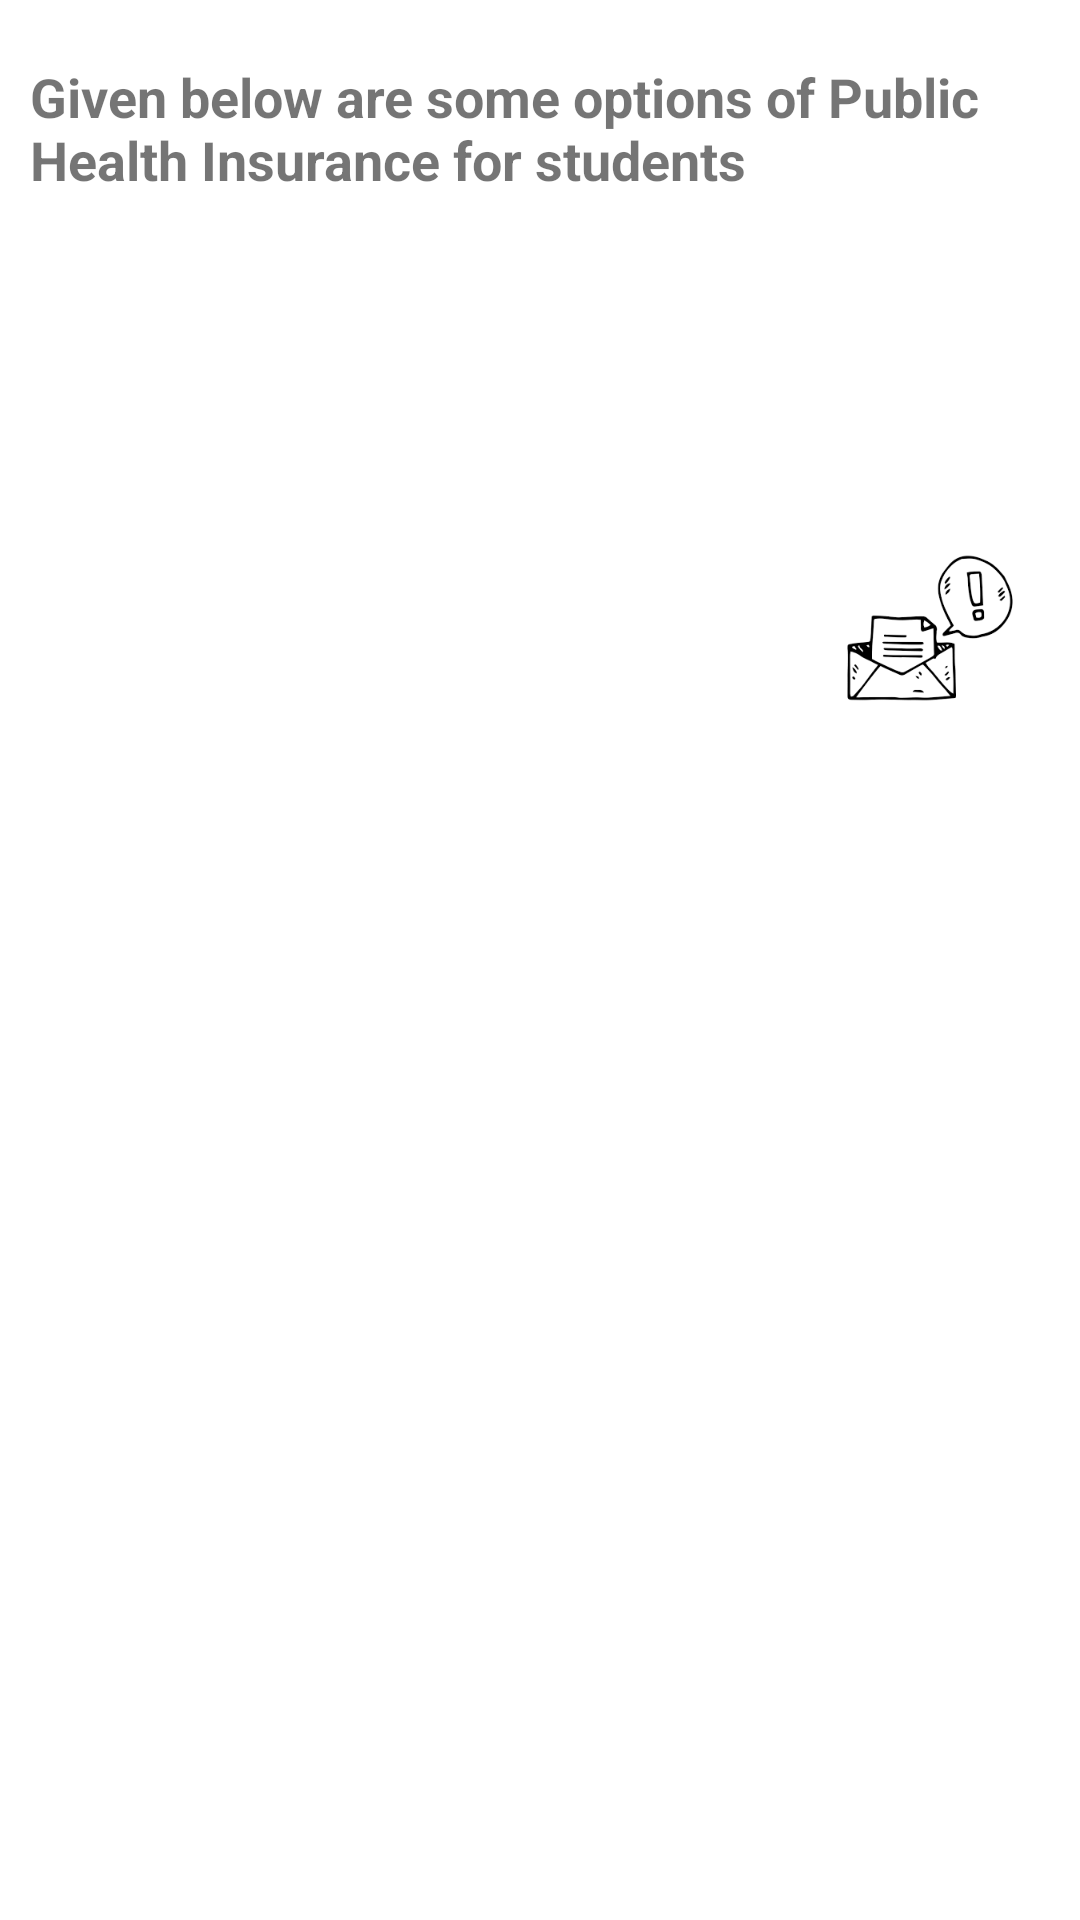

Icon click points for this 1080px×1920px phone screenshot, format (x,y):
note: (930,628)
